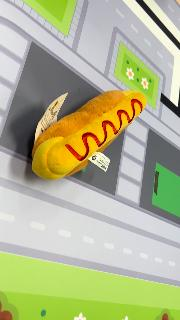hotdog: (31, 89, 147, 181)
